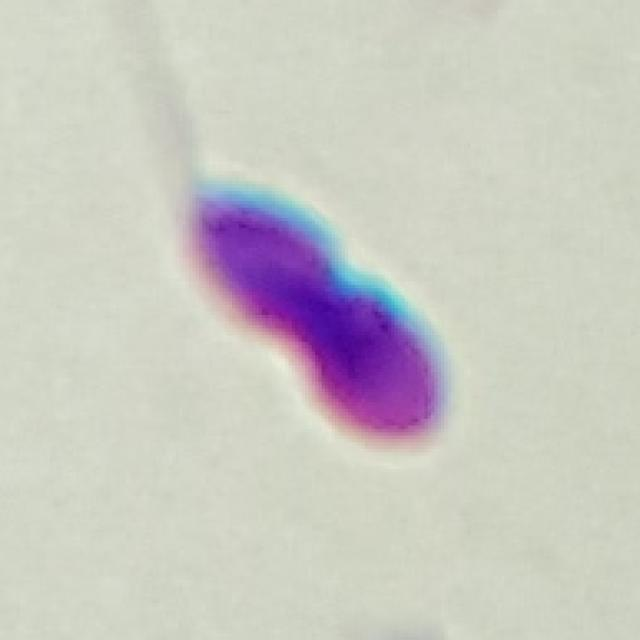abnormal sperm: (94, 4, 460, 460)
